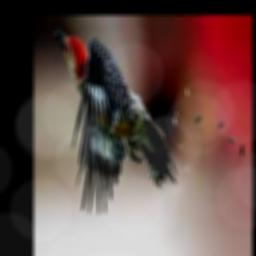Woodpecker: (52, 25, 177, 214)
